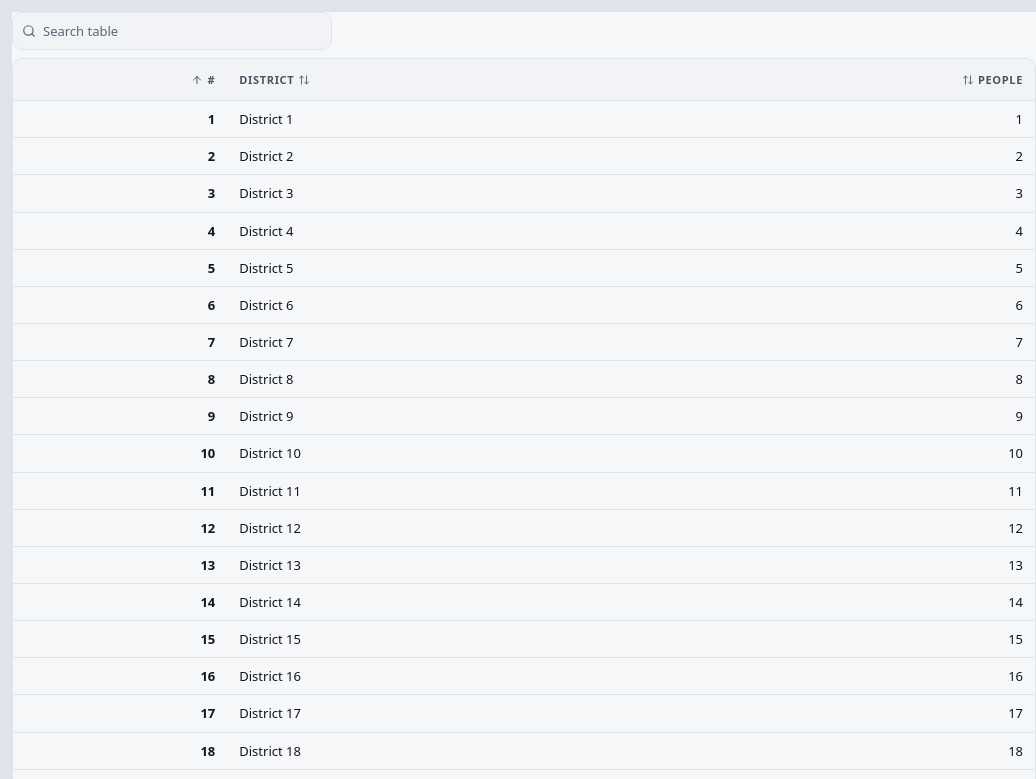
SortableTable preview › sorts every row, not only the ones shown
expect the row "1 District 1 1" is shown: met, box [13,101,1035,138]
Click the button "People" at (992, 80), box [962,67,1023,92]
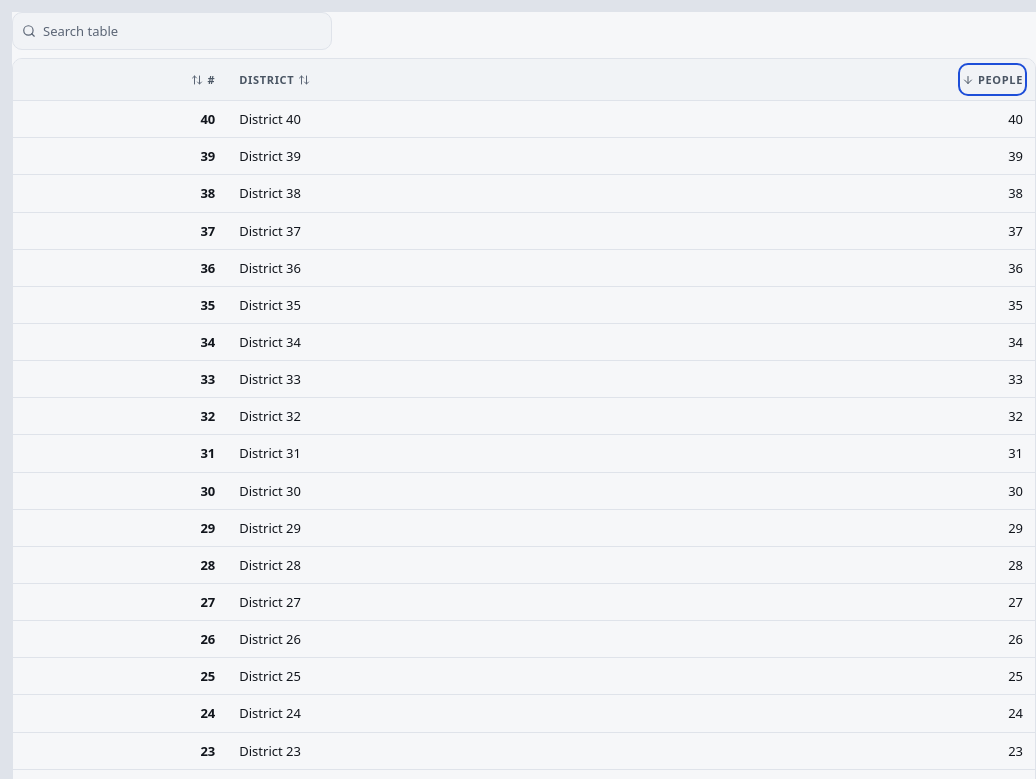
expect the row "40 District 40 40" is shown: met, box [13,101,1035,138]
